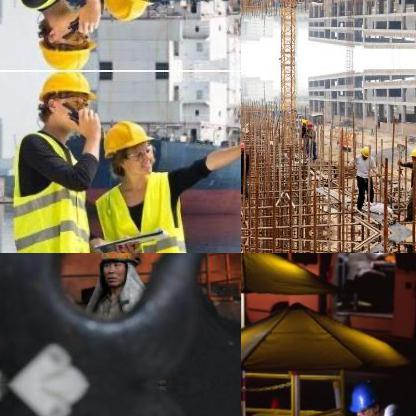Helmet: (99, 110, 158, 184), (30, 68, 98, 127), (30, 11, 98, 70), (98, 0, 160, 29), (97, 253, 140, 287), (347, 382, 387, 415), (358, 142, 370, 158), (407, 146, 415, 161), (241, 139, 246, 149), (305, 120, 311, 126), (300, 117, 306, 123)
